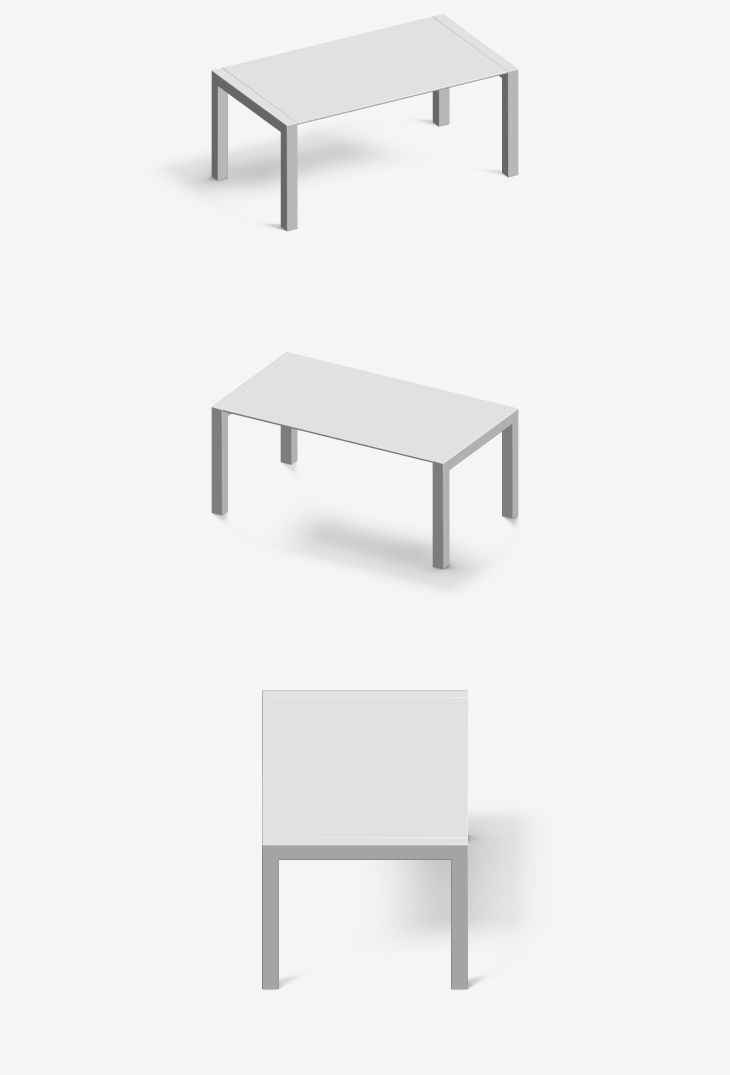
The model's file is mesa7.glb.
3 views of the same model, one above another, from view 1: azimuth 30°, elevation 25°; view 2: azimuth 150°, elevation 25°; view 3: azimuth 270°, elevation 25° (orthographic). The views are drawn at different scales.
Parts seen in each view (by area): view 1: GREY, FLOOR; view 2: GREY, FLOOR; view 3: GREY, FLOOR.
Boxes of the visible parts, x1=… form: GREY: x1=211, y1=14, x2=518, y2=231; FLOOR: x1=162, y1=119, x2=506, y2=230; GREY: x1=211, y1=352, x2=518, y2=569; FLOOR: x1=212, y1=461, x2=518, y2=591; GREY: x1=262, y1=690, x2=467, y2=989; FLOOR: x1=279, y1=812, x2=530, y2=988.
Bounding box in the file's own units: 334 × 76 × 334.
Materials: 3 (1 with a texture image).
